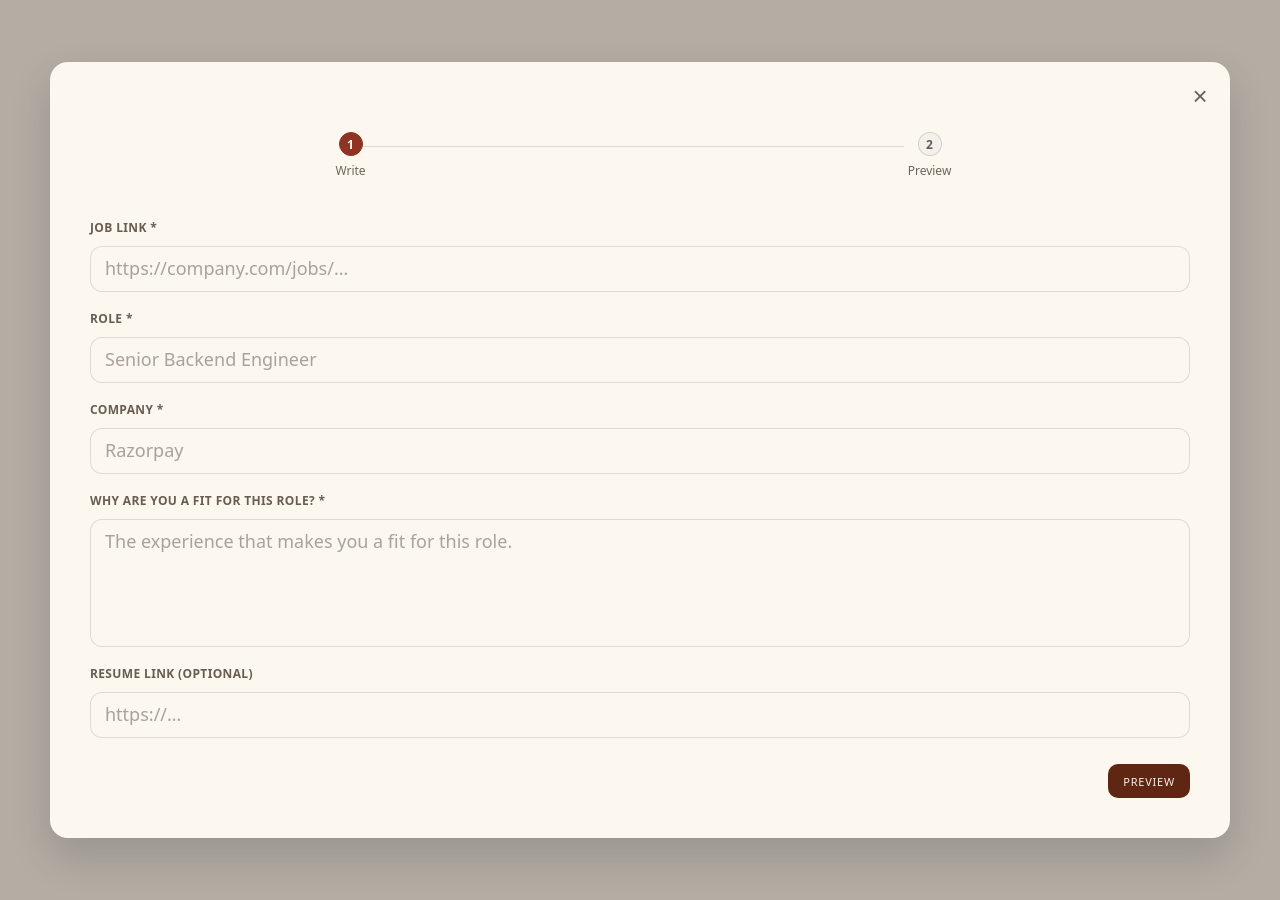
approved referral compose form › rejects scheme-like input with a numeric tail that is not a host
Step 1. Type "ftp:21/download" into the field labelled "Job link *" → (640, 269), box left=90, top=246, right=1190, bottom=292
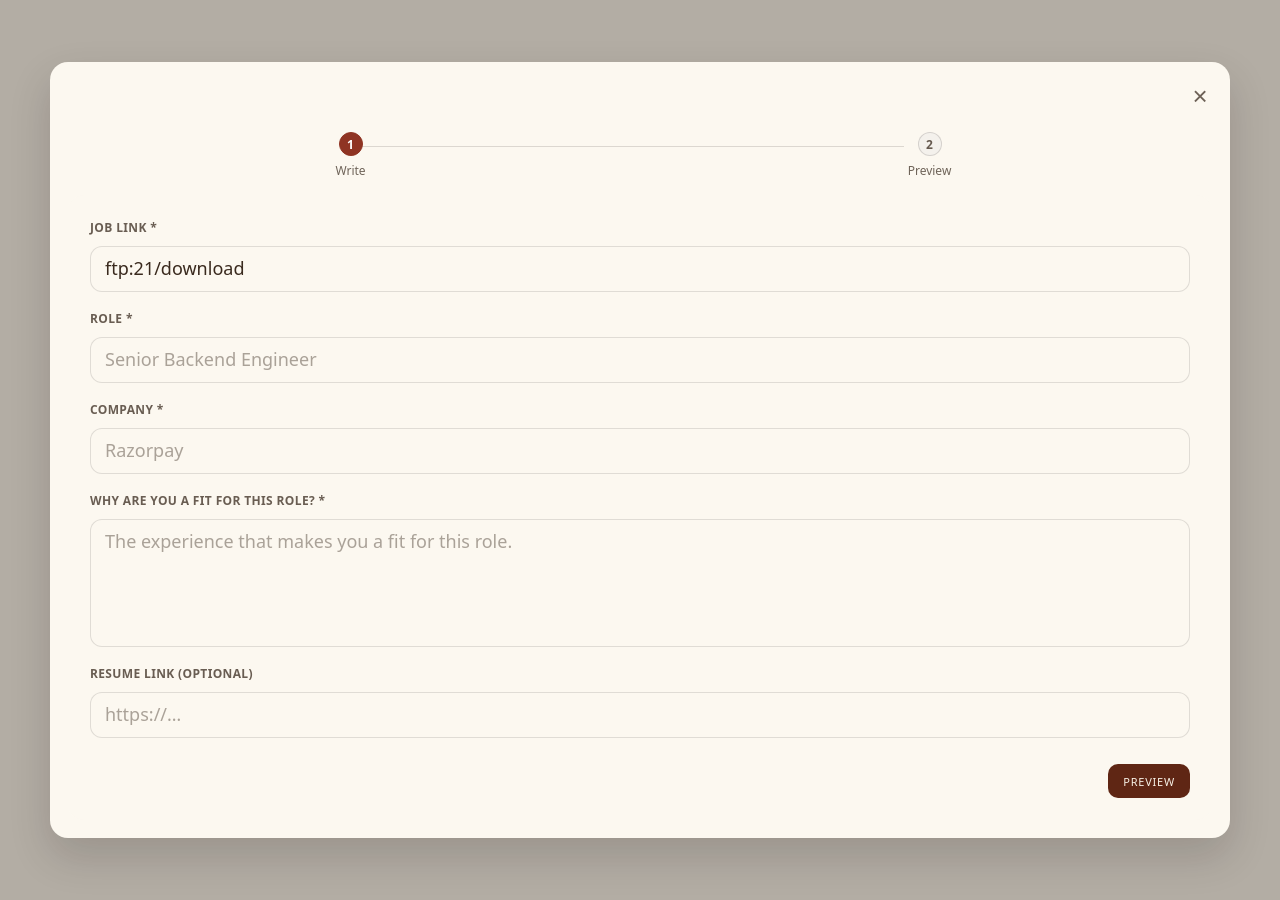
Step 2. Type "Backend Engineer" into the field labelled "Role *" → (640, 360), box left=90, top=337, right=1190, bottom=383
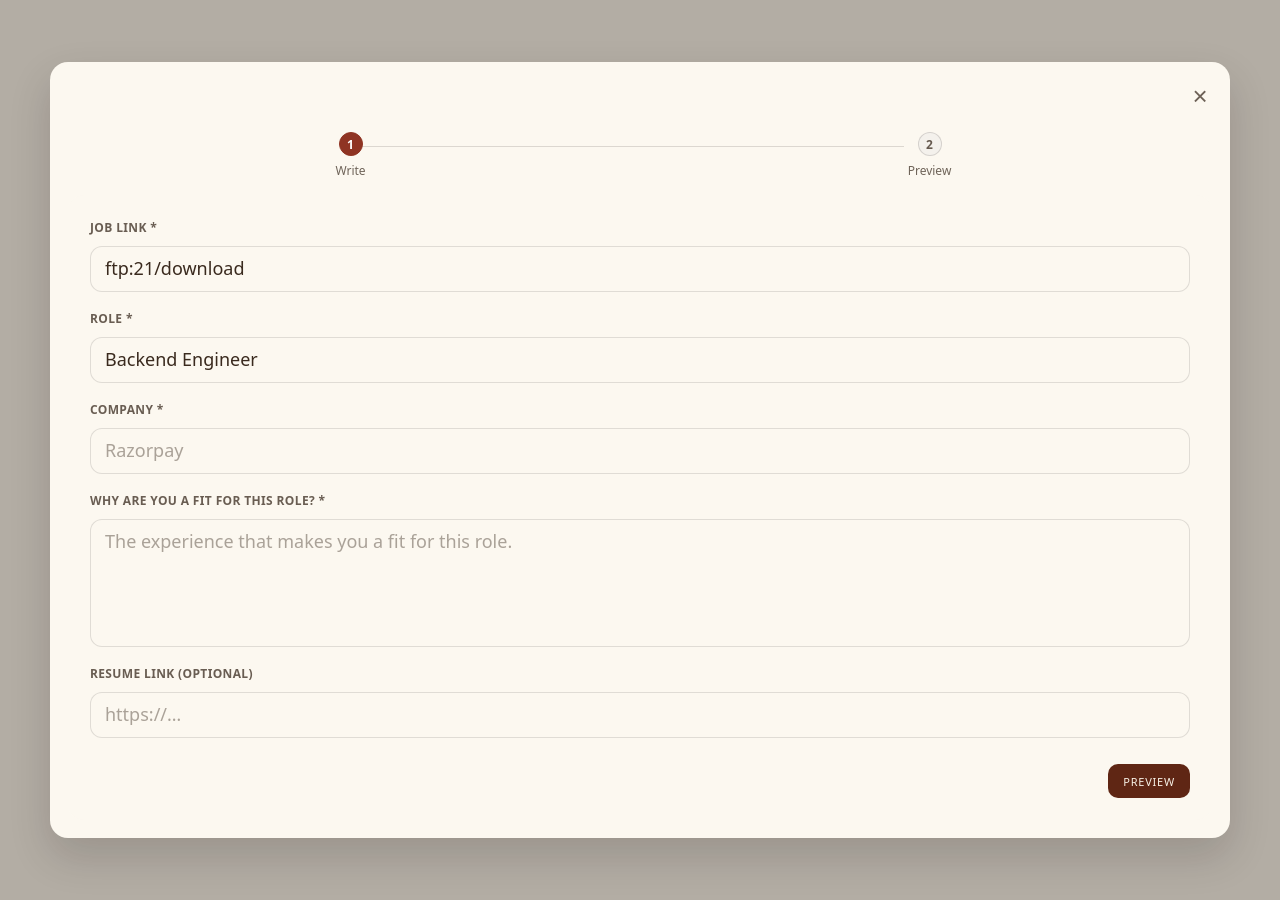
Step 3. Type "Example Co" into the field labelled "Company *" → (640, 451), box left=90, top=428, right=1190, bottom=474
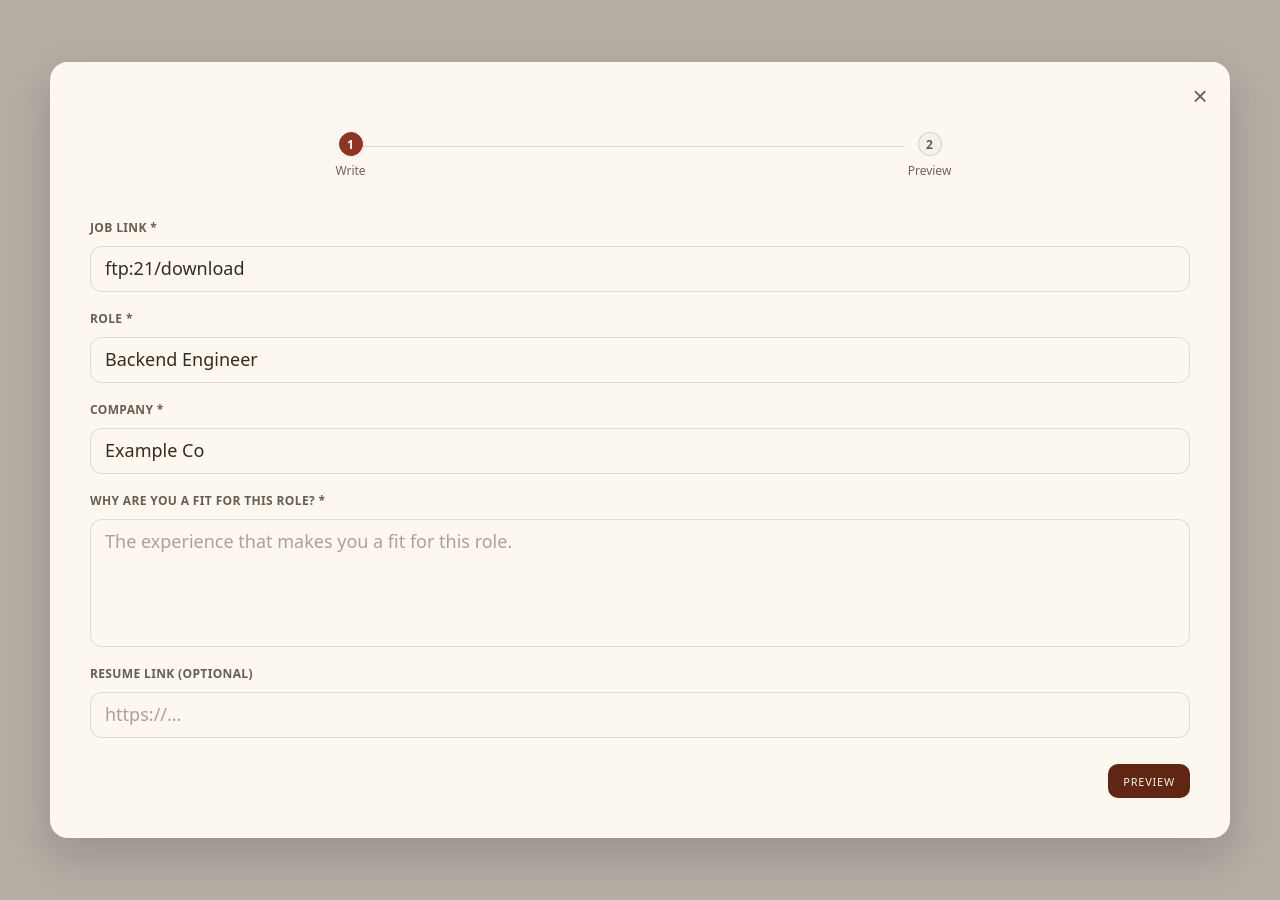
Step 4. Type "I match the stack." into the text box labelled "Why are you a fit for this role? *" → (640, 583), box left=90, top=519, right=1190, bottom=647
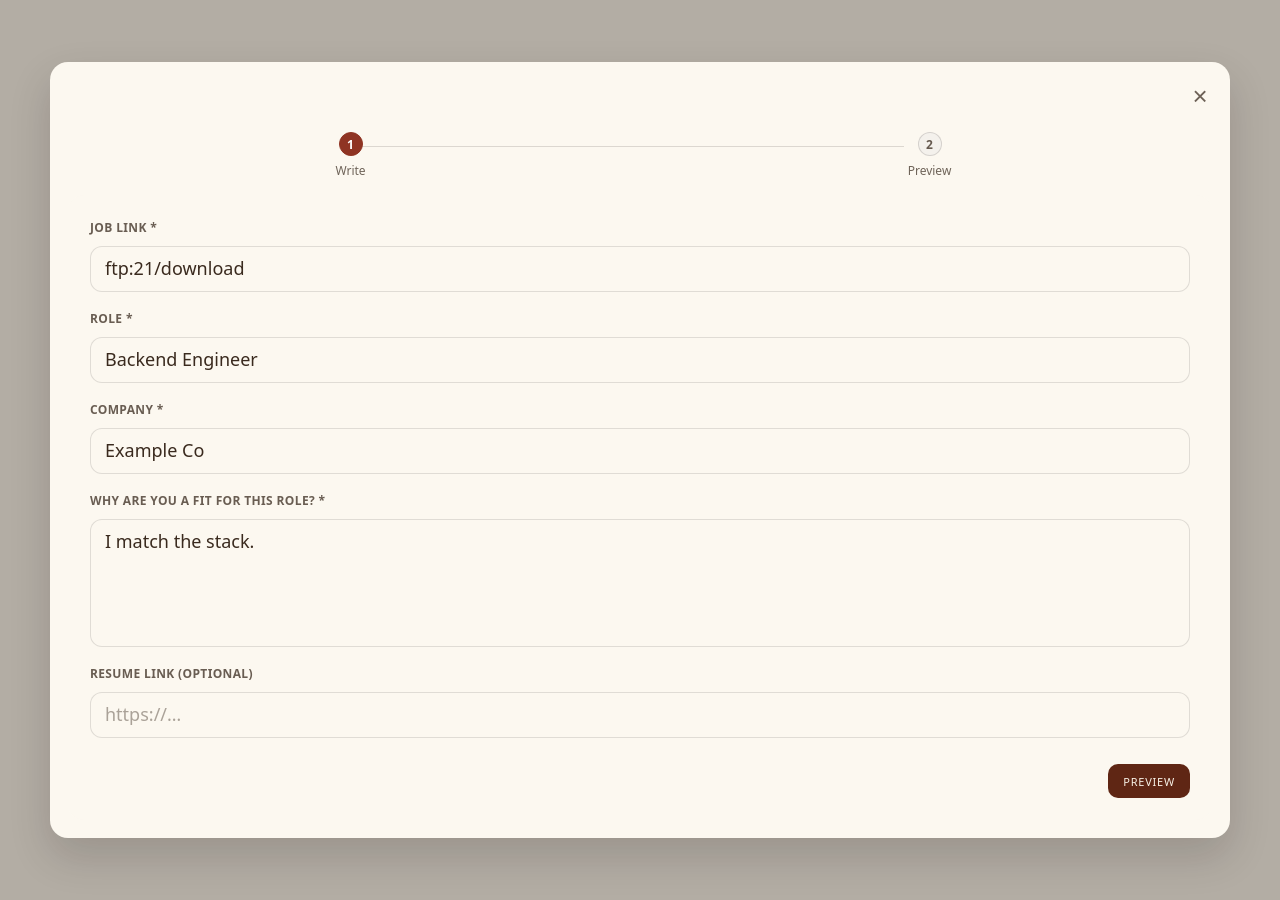
Step 5. Click the button "Preview" → (1149, 781), box left=1108, top=764, right=1190, bottom=798
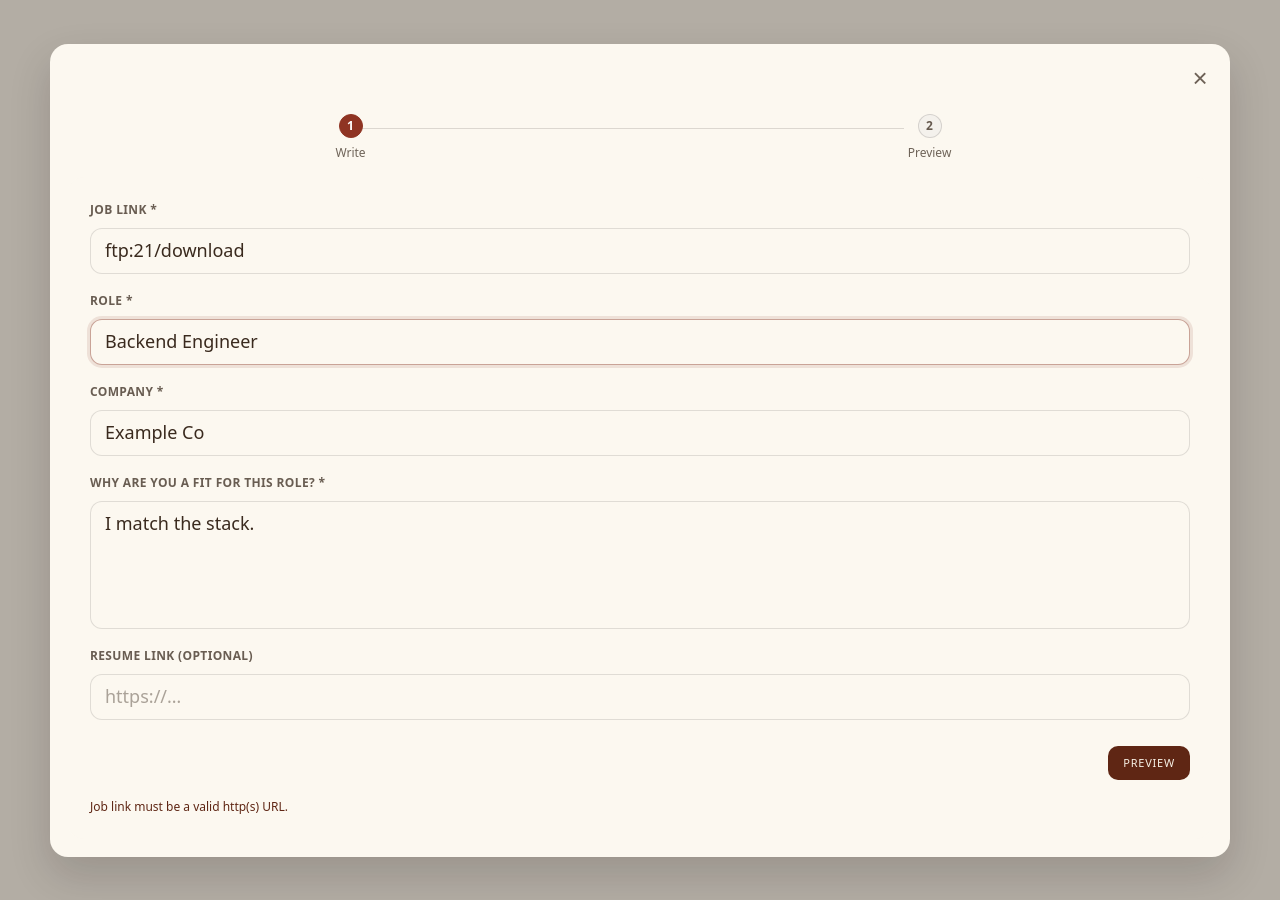
expect the message "Job link must be a valid http(s) URL." is shown: met, box left=90, top=798, right=288, bottom=814
